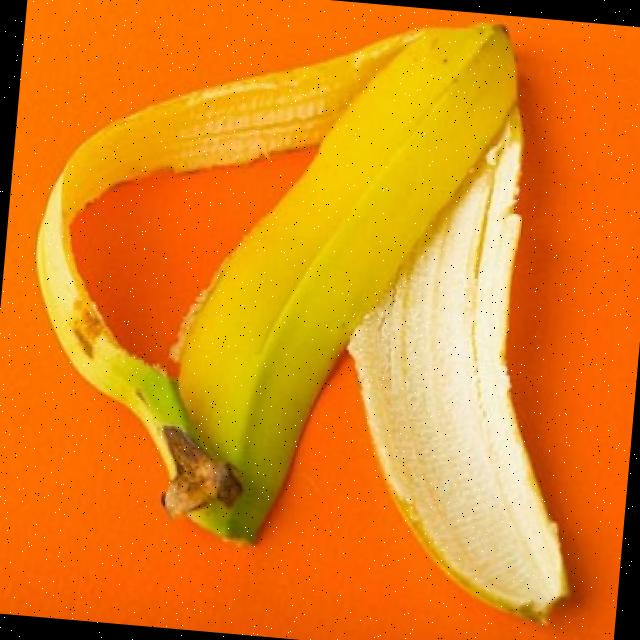banana-peel: (5, 0, 619, 625)
